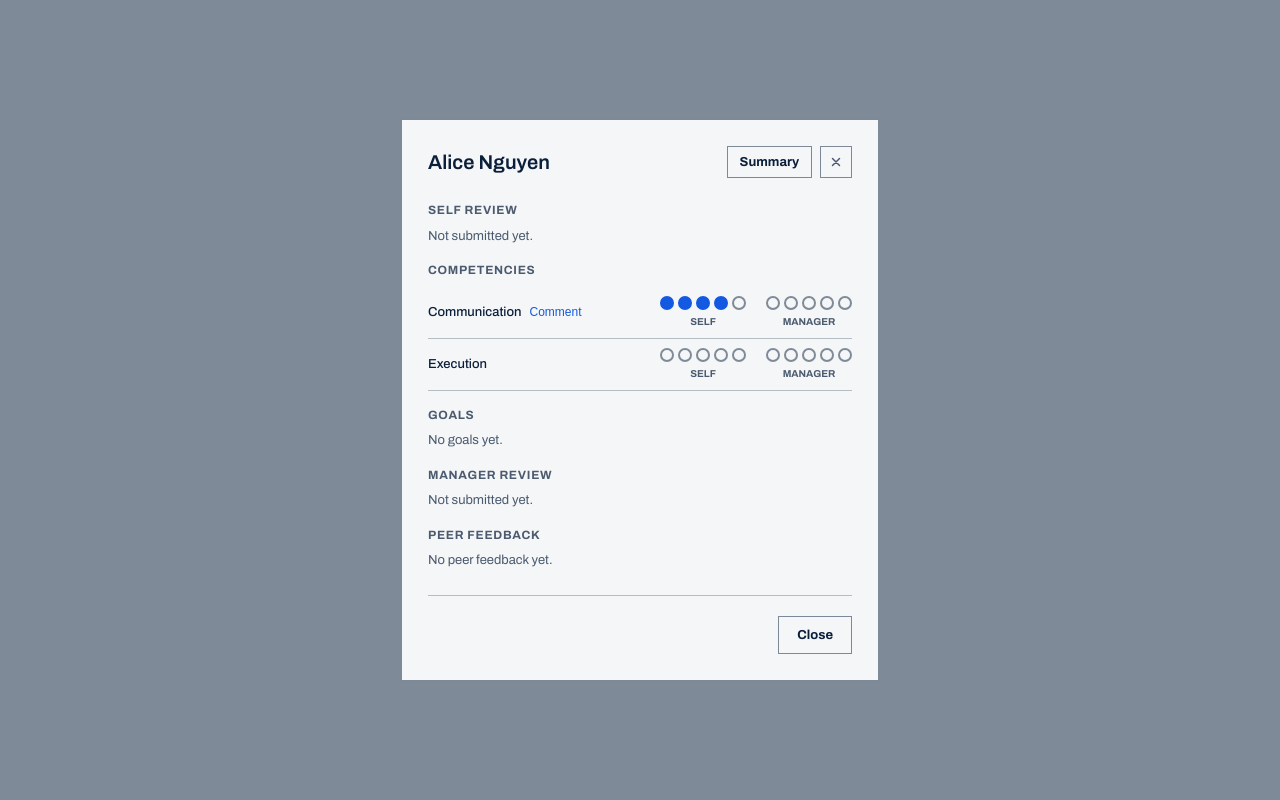
Test: PerformanceReviewDialog › shows an existing competency comment read-only when the viewer can't edit it
Expected: the heading "Competencies" is shown, [428,263,536,277]
Click the button "Comment" at (556, 312), box [530,305,582,319]
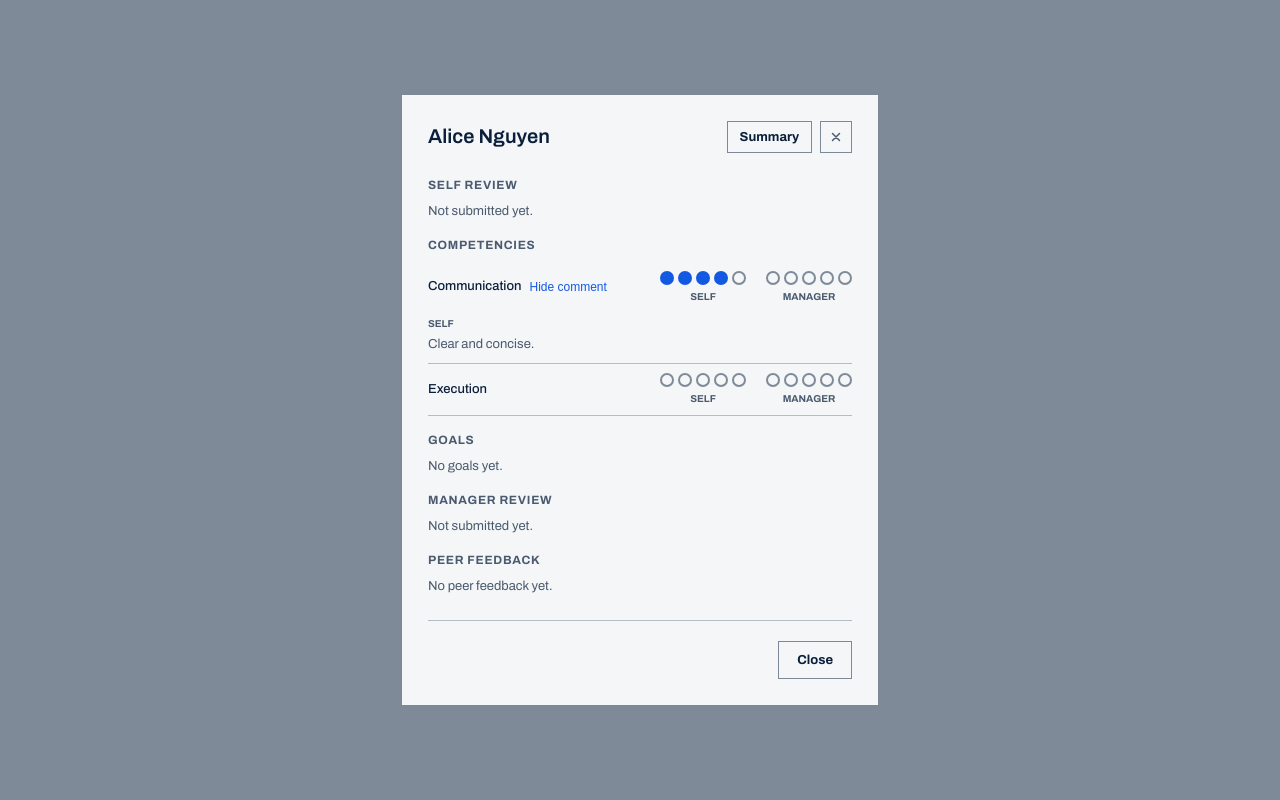
Now the text "Clear and concise." is shown, box [428,336,534,350]
